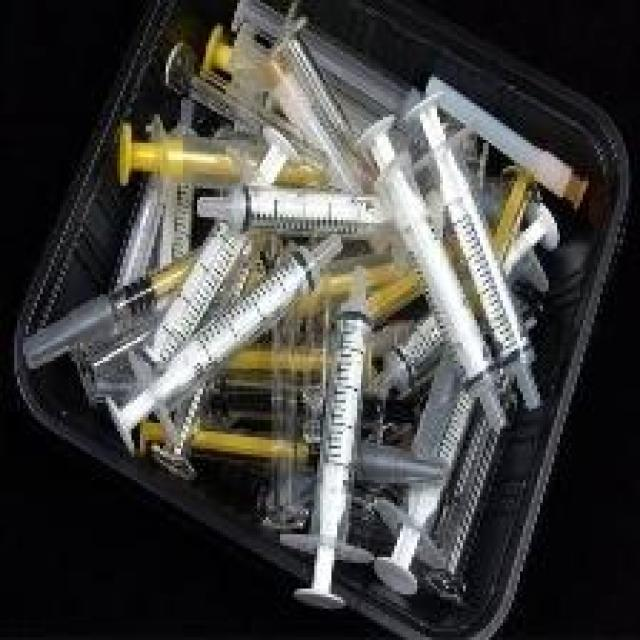syringe: (44, 0, 578, 570)
